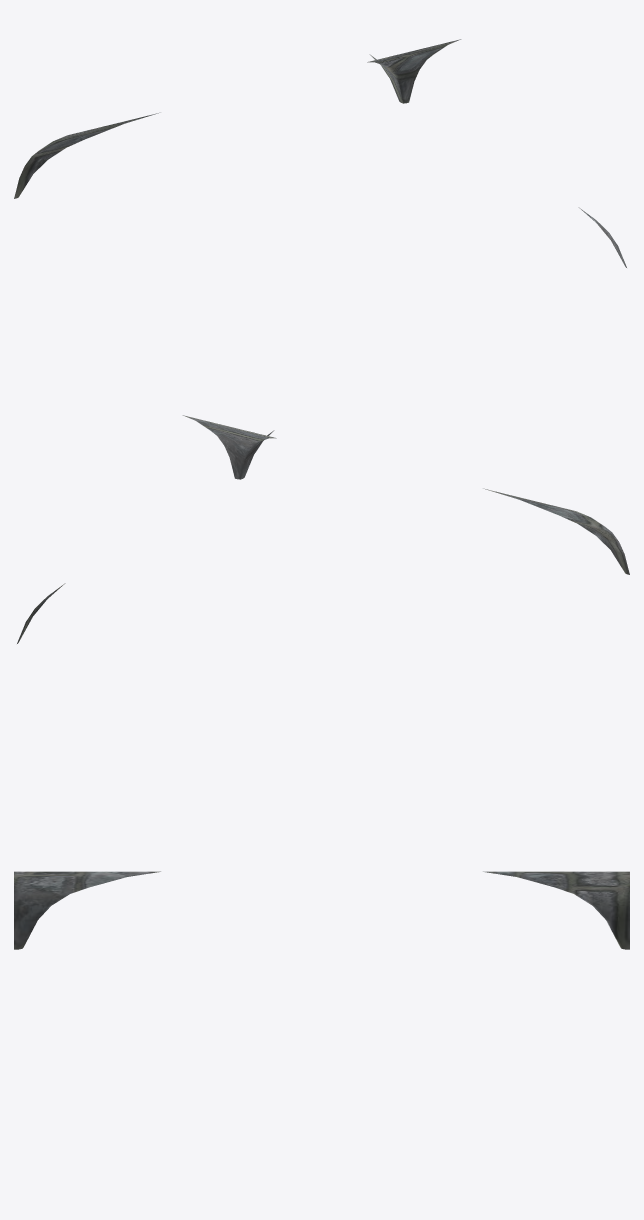
The model's file is SM_Ceiling.glb.
3 renders of one model, top to bottom at view 1: azimuth 30°, elevation 25°; view 2: azimuth 150°, elevation 25°; view 3: azimuth 270°, elevation 25°, orthographic. The views are drawn at different scales.
Parts seen in each view (by area): view 1: SM_Ceiling; view 2: SM_Ceiling; view 3: SM_Ceiling.
Boxes of the visible parts, <box> form: SM_Ceiling: <box>14,39,626,267</box>; SM_Ceiling: <box>17,415,629,643</box>; SM_Ceiling: <box>14,871,629,949</box>.
Bounding box in the file's own units: 6 × 1.93 × 6.
Materials: 1 (1 with a texture image).
